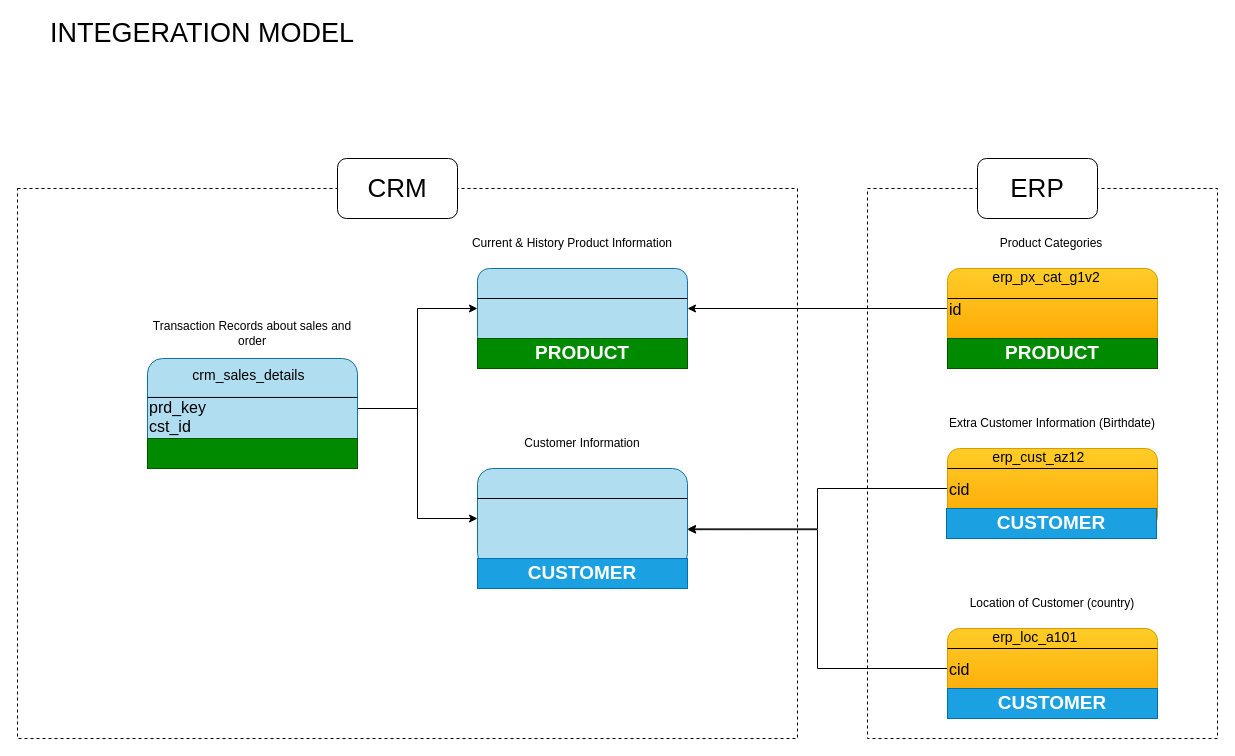
Image size: 1235x756. Some labels were removed from this diagram. Each missing label, with the centre of its shape:
crm_cust_info cst_id cst_key: (x=582, y=518)
crm_prd_info prd_key: (x=582, y=308)
SALES: (x=252, y=453)
